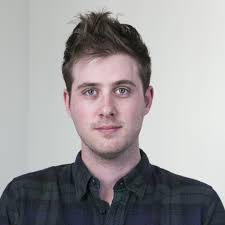s.white: (116, 97, 145, 137)
